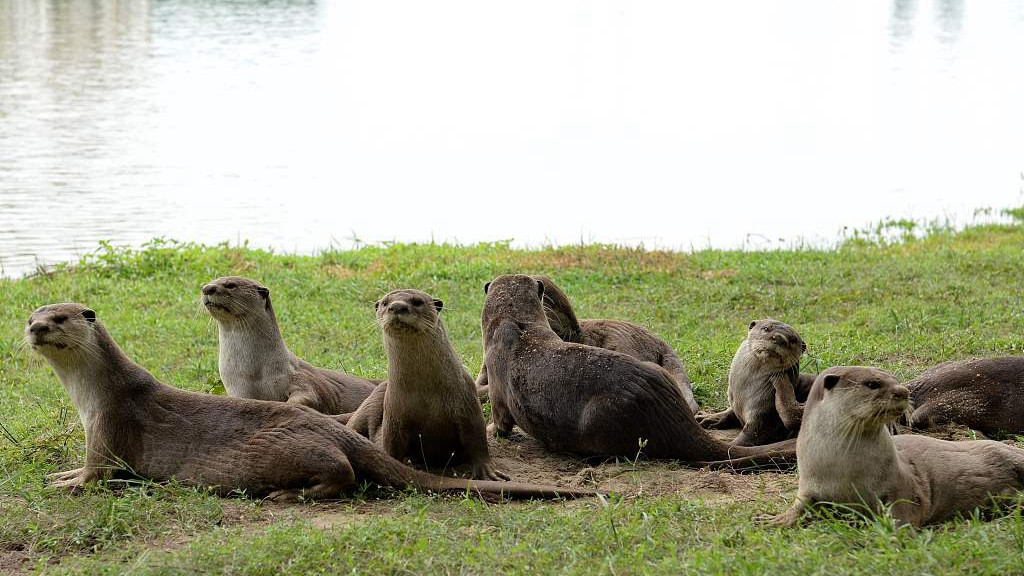otter: (12, 299, 362, 509), (750, 361, 1024, 532), (354, 284, 493, 513)
